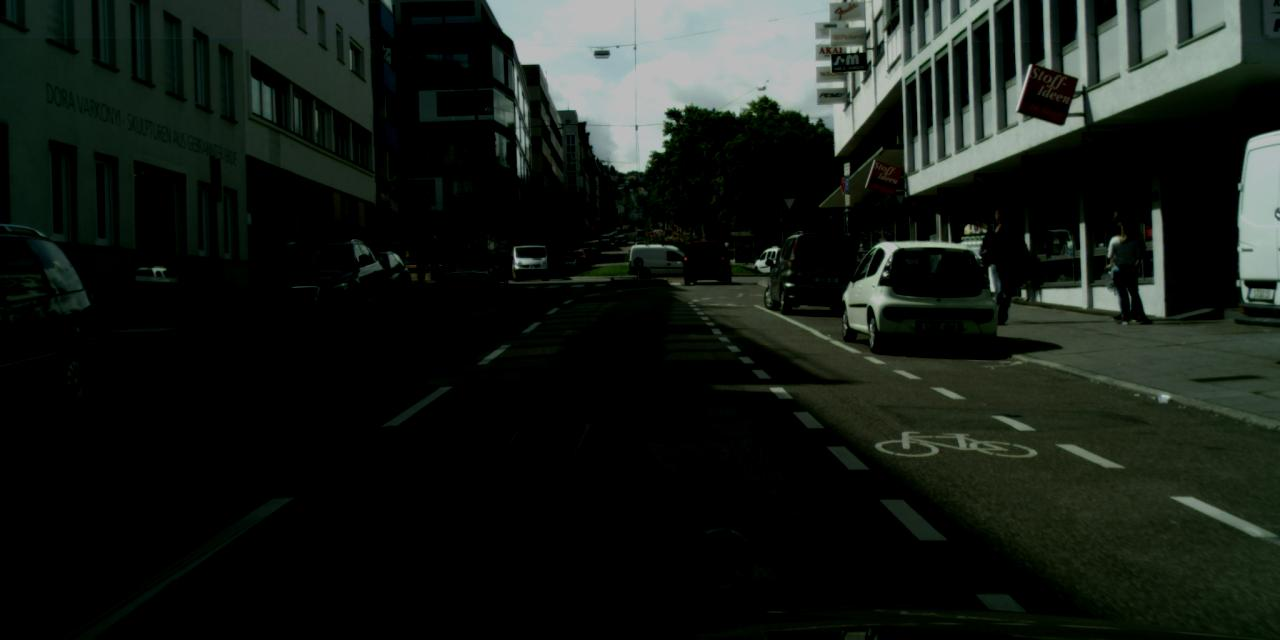ped: (1102, 211, 1154, 327), (977, 208, 1023, 323), (62, 247, 98, 337), (414, 246, 430, 284), (723, 238, 731, 258)
